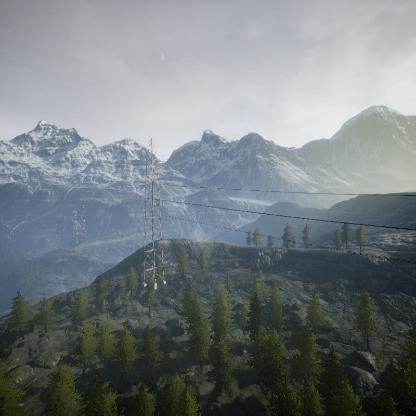tower: (133, 138, 171, 292)
